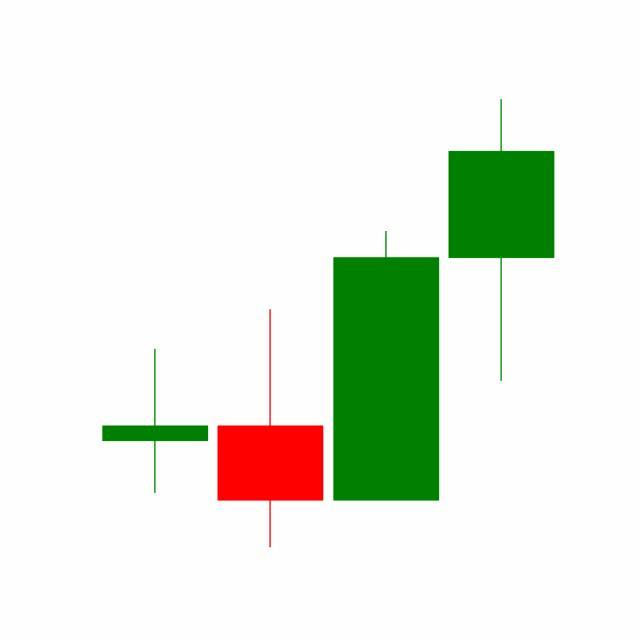Marubozu: (329, 229, 445, 504)
